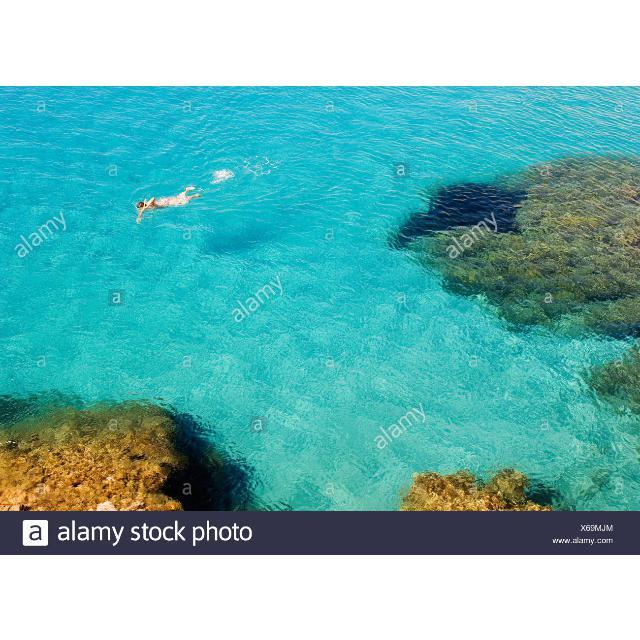human: (136, 183, 202, 223)
